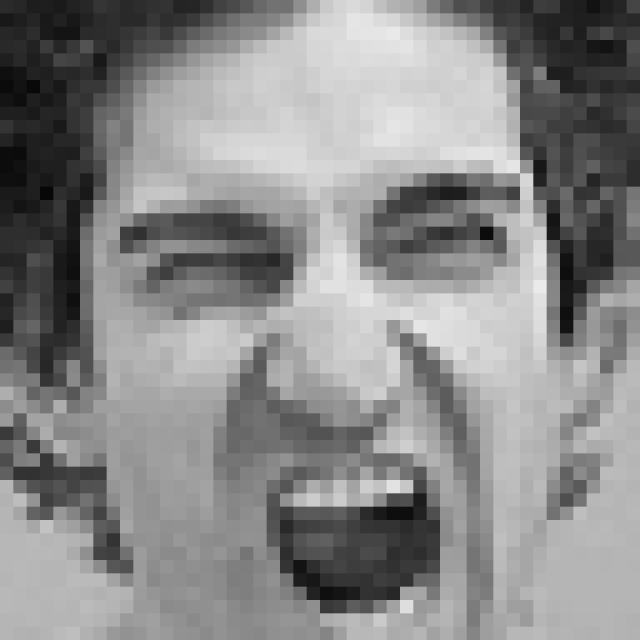angry: (109, 163, 529, 640)
